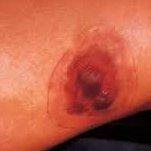Tick: (28, 25, 149, 138)
